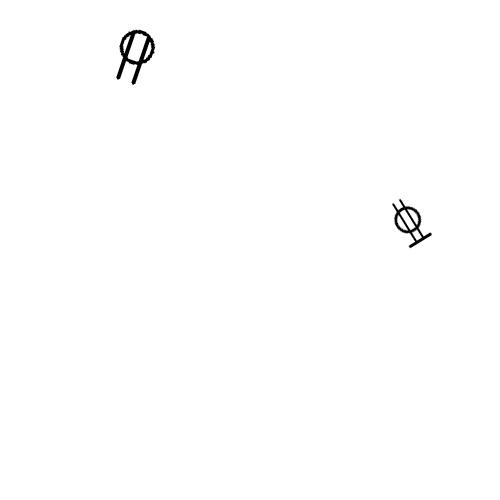Duplex-Receptacle: (105, 37, 164, 73), (382, 205, 434, 238)
